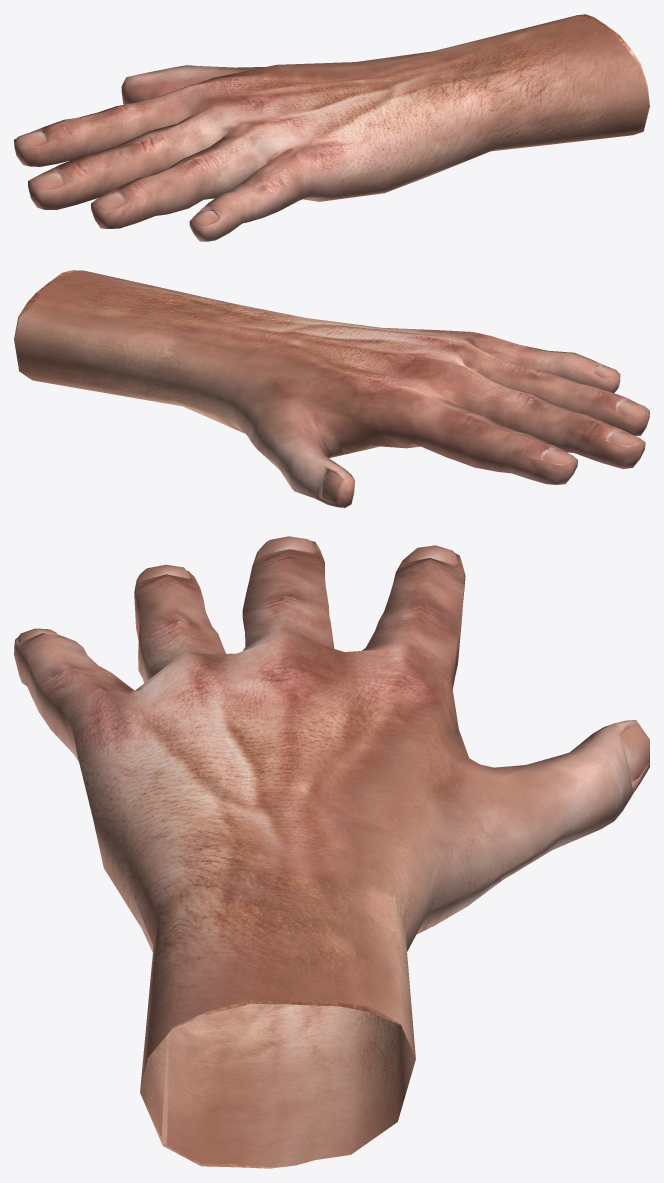
The model's file is Hand_v.4_3.obj.
The picture shows the model from 3 angles, top to bottom: view 1: azimuth 30°, elevation 25°; view 2: azimuth 150°, elevation 25°; view 3: azimuth 270°, elevation 25°; orthographic projection. The views are drawn at different scales.
Visible parts, largest first — view 1: Hand_v.4_2; view 2: Hand_v.4_2; view 3: Hand_v.4_2.
Boxes of the visible parts, <box> form: Hand_v.4_2: <box>14,14,649,241</box>; Hand_v.4_2: <box>14,270,649,507</box>; Hand_v.4_2: <box>14,536,649,1168</box>.
Size of the model in its own units: 0.256 by 0.0457 by 0.1369.
Materials: 1 (1 with a texture image).
